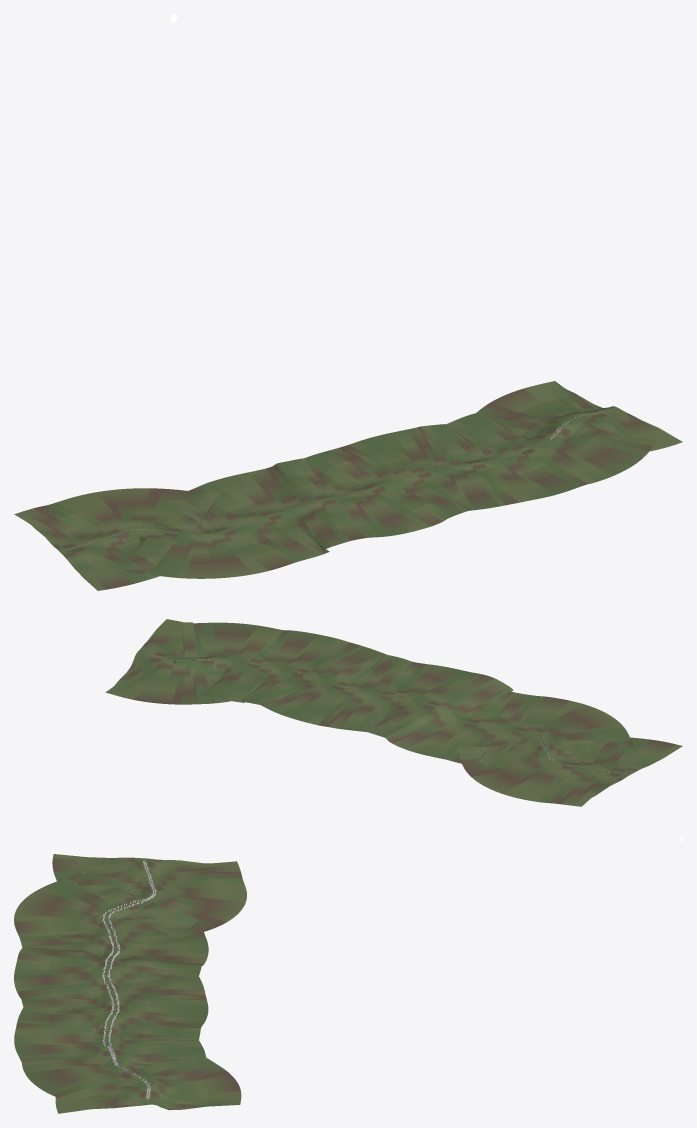
File: koppenberg.glb
3 renders of one model, top to bottom at view 1: azimuth 30°, elevation 25°; view 2: azimuth 150°, elevation 25°; view 3: azimuth 270°, elevation 25°, orthographic. The views are drawn at different scales.
Visible parts, largest first — view 1: MeldenFields_003, MeldenFields_006, MeldenFields_020, MeldenFields_005, MeldenFields_009, MeldenFields_010, MeldenFields_013, MeldenFields_012, MeldenFields_008, MeldenFields_016, MeldenFields_015, MeldenFields_014 (+13 smaller); view 2: MeldenFields_003, MeldenFields_010, MeldenFields_006, MeldenFields_022, MeldenFields_009, MeldenFields_020, MeldenFields_005, MeldenFields_015, MeldenFields_014, MeldenFields_023, MeldenFields_016, MeldenFields_013 (+13 smaller); view 3: MeldenFields_003, MeldenFields_006, MeldenFields_020, MeldenFields_017, MeldenFields_005, MeldenFields_011, MeldenFields_000, MeldenFields_012, MeldenFields_022, MeldenFields_018, MeldenFields_001, MeldenFields_023 (+13 smaller).
Boxes of the visible parts, <box> form: MeldenFields_003: <box>66,488,184,541</box>; MeldenFields_006: <box>197,519,294,578</box>; MeldenFields_020: <box>498,425,644,483</box>; MeldenFields_005: <box>141,509,213,578</box>; MeldenFields_009: <box>214,468,329,551</box>; MeldenFields_010: <box>267,462,362,548</box>; MeldenFields_013: <box>305,449,449,523</box>; MeldenFields_012: <box>305,458,438,535</box>; MeldenFields_008: <box>190,481,328,558</box>; MeldenFields_016: <box>411,426,507,510</box>; MeldenFields_015: <box>358,429,469,509</box>; MeldenFields_014: <box>334,441,469,517</box>; MeldenFields_003: <box>462,754,570,799</box>; MeldenFields_010: <box>382,675,510,743</box>; MeldenFields_006: <box>508,696,608,744</box>; MeldenFields_022: <box>142,637,202,704</box>; MeldenFields_009: <box>392,688,512,757</box>; MeldenFields_020: <box>212,622,280,684</box>; MeldenFields_005: <box>496,715,630,754</box>; MeldenFields_015: <box>267,654,385,722</box>; MeldenFields_014: <box>308,654,404,727</box>; MeldenFields_023: <box>106,622,195,701</box>; MeldenFields_016: <box>258,645,386,708</box>; MeldenFields_013: <box>333,659,416,731</box>; MeldenFields_003: <box>132,889,246,931</box>; MeldenFields_006: <box>14,899,140,934</box>; MeldenFields_020: <box>22,1058,173,1091</box>; MeldenFields_017: <box>14,1023,200,1041</box>; MeldenFields_005: <box>25,879,167,924</box>; MeldenFields_011: <box>14,958,201,978</box>; MeldenFields_000: <box>52,854,237,878</box>; MeldenFields_012: <box>14,972,198,995</box>; MeldenFields_022: <box>87,1062,238,1094</box>; MeldenFields_018: <box>14,1035,198,1058</box>; MeldenFields_001: <box>56,862,241,885</box>; MeldenFields_023: <box>55,1086,241,1105</box>.
Bounding box in the file's own units: 5867 × 2172 × 6300.
